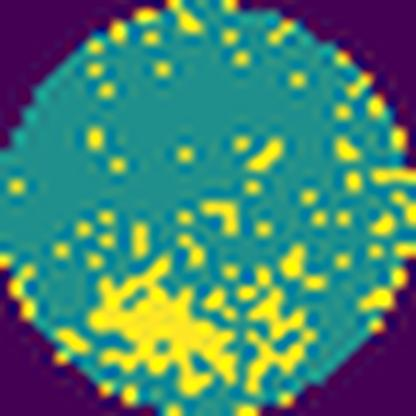Loc: (90, 247, 236, 396), (245, 282, 311, 397)
